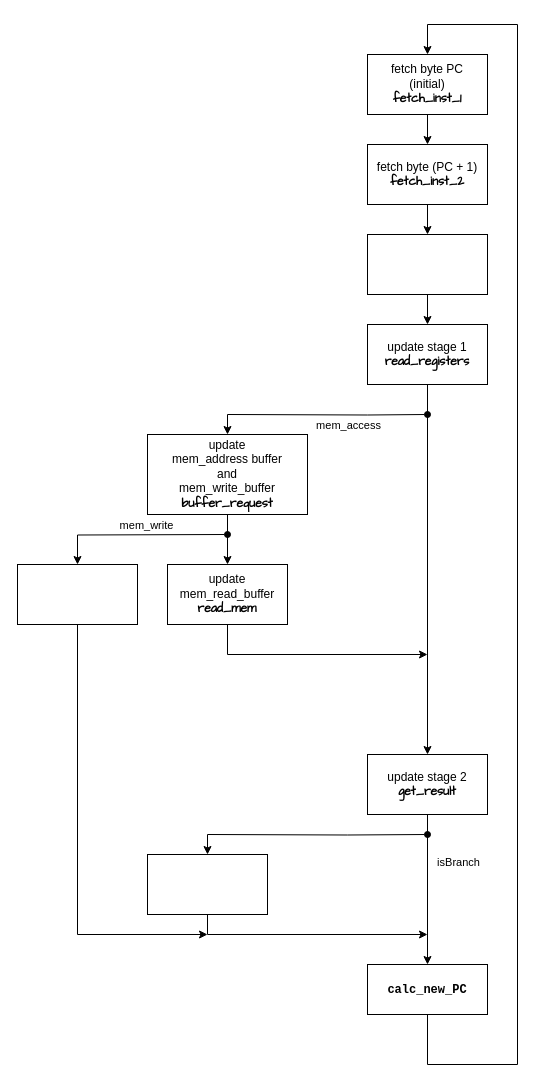
This 543x1090 diagram has some shape labels left out. Each missing label, with the box of its shape:
mem_write enable mem_write: (16, 564, 138, 624)
set data path signals set_signals: (366, 234, 488, 294)
write back write_back: (146, 854, 268, 914)
